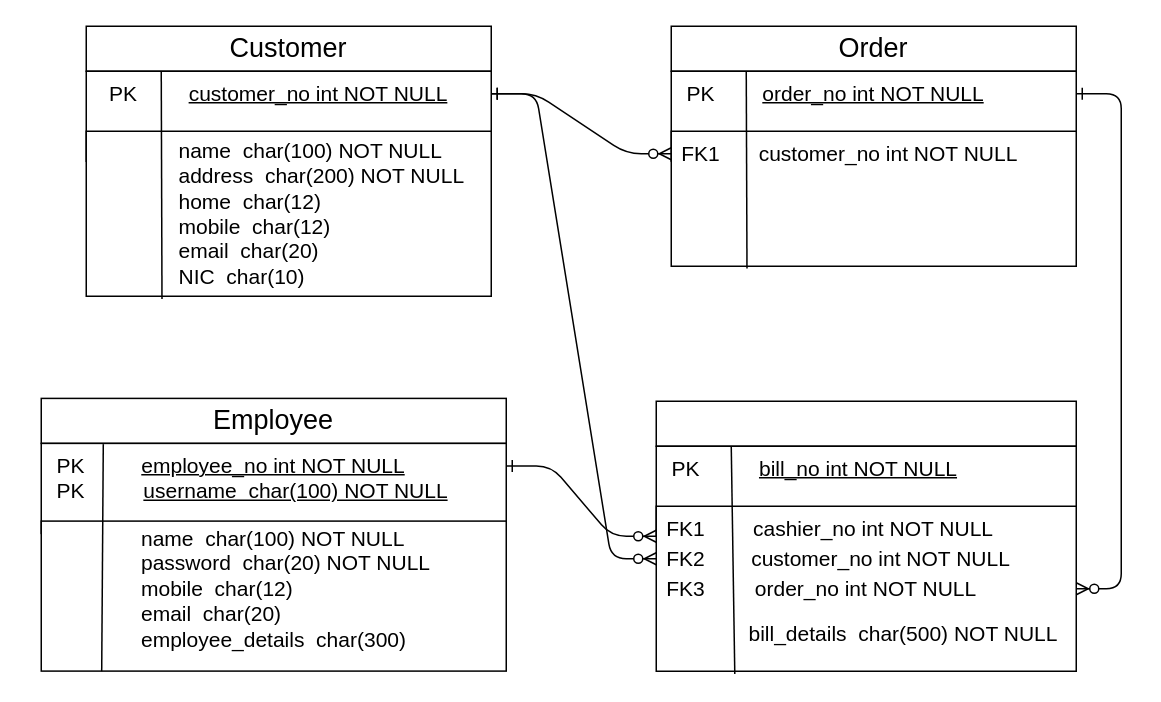
The diagram is 1161 pixels wide and 702 high, and some of its shapes have lost their labels. Each missing label, with the centre of its shape:
"Bill" goes at point (865, 423).
"status char(30) NOT NULL details char(500) NOT NULL" goes at point (873, 198).
